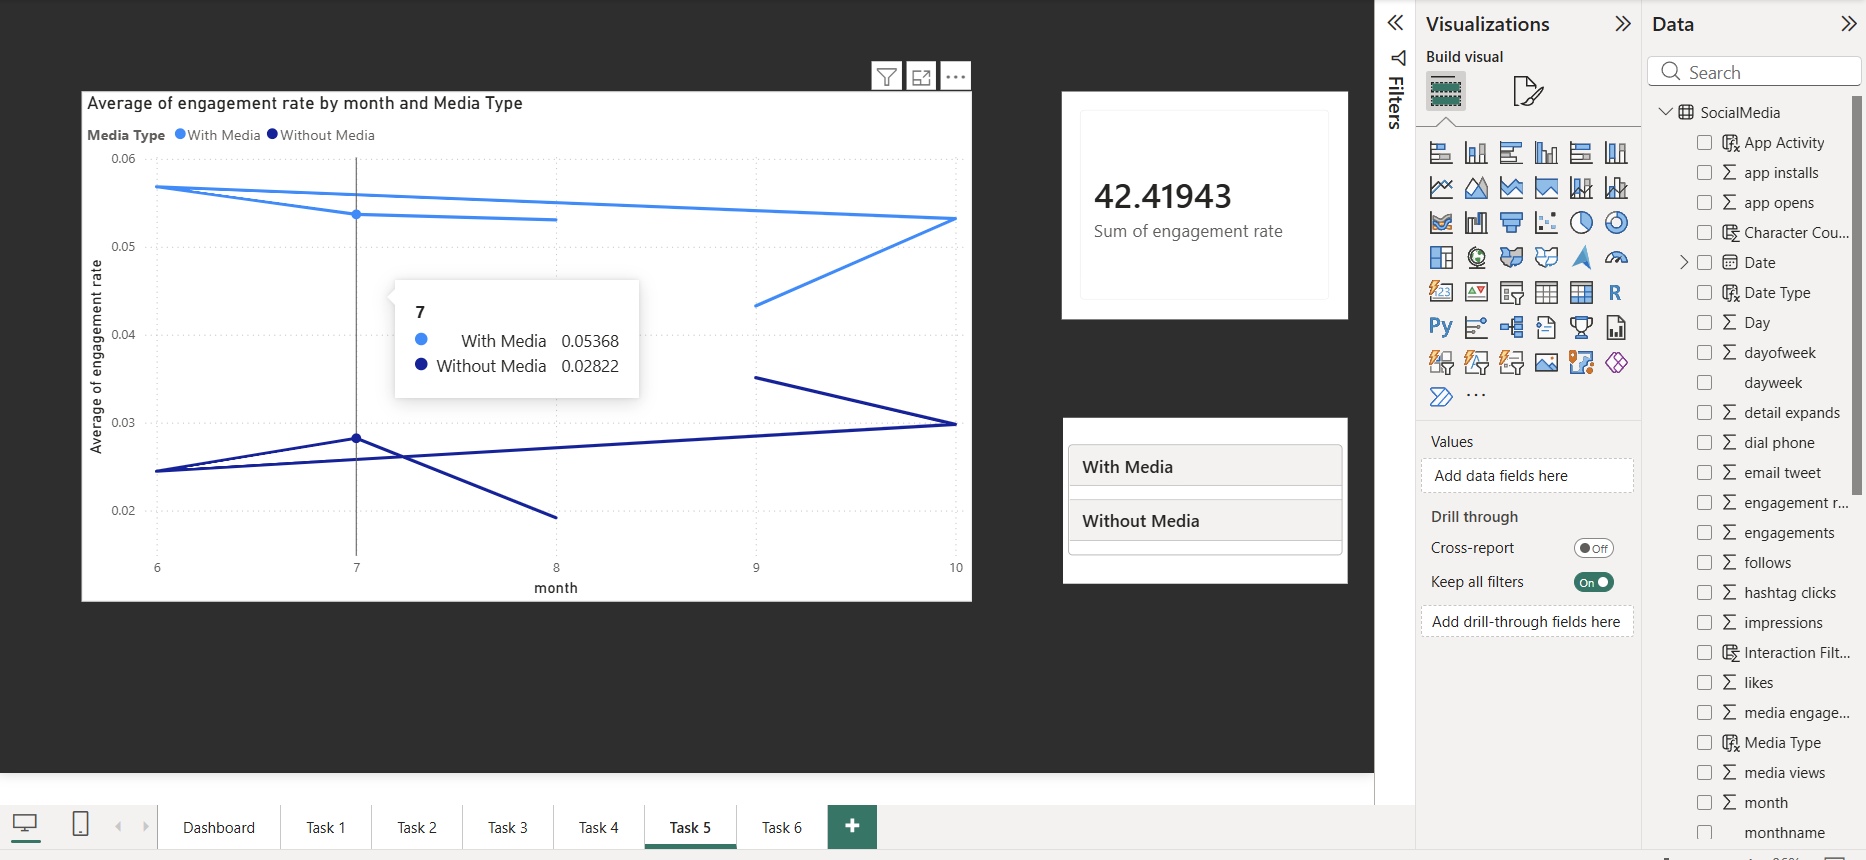

The page's visual inventory and layout, read from the dashboard file:
{"tool":"powerbi","page":{"name":"Task 5","canvas":[1280,720],"ordinal":5},"visuals":[{"type":"lineChart","fields":{"Category":["SocialMedia.month"],"Y":["Avg(SocialMedia.engagement rate)"],"Series":["SocialMedia.Media Type"]},"box":[77.9,86,827.9,474.4],"z":0},{"type":"cardVisual","fields":{"Data":["Sum(SocialMedia.engagement rate)"]},"box":[989.5,86,266.3,211.6],"z":1},{"type":"cardVisual","fields":{"Rows":["SocialMedia.Media Type"]},"box":[990.7,389.5,265.1,154.7],"z":2}]}

Visuals, with their boxes on the page's 1280x720 design canvas (x1, y1, x2, y2). These are canvas units, not pixel positions in the 1866x860 screenshot, which may show the page scaled, cropped or inside an application window:
lineChart - SocialMedia.month x Avg(SocialMedia.engagement rate): locate(78, 86, 906, 560)
cardVisual - Sum(SocialMedia.engagement rate): locate(990, 86, 1256, 298)
cardVisual - SocialMedia.Media Type: locate(991, 390, 1256, 544)
